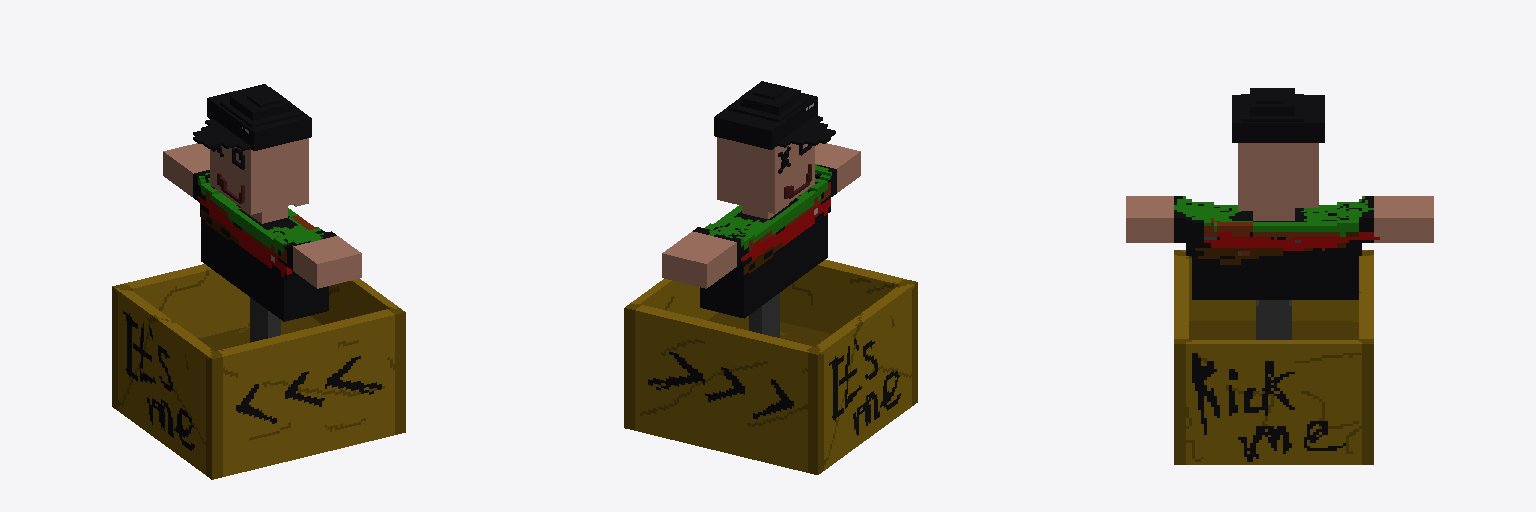
3 renders of one model, left to right at view 1: azimuth 30°, elevation 25°; view 2: azimuth 150°, elevation 25°; view 3: azimuth 270°, elevation 25°, orthographic.
Visible parts, largest first — view 1: object 1; view 2: object 1; view 3: object 1.
Part boxes in pixels (x1,y1,x2,y2): object 1: (112, 84, 405, 479); object 1: (624, 81, 917, 474); object 1: (1126, 88, 1433, 464).
Size of the model in its own units: 7.4 by 11.8 by 10.2.
Materials: 1 (1 with a texture image).